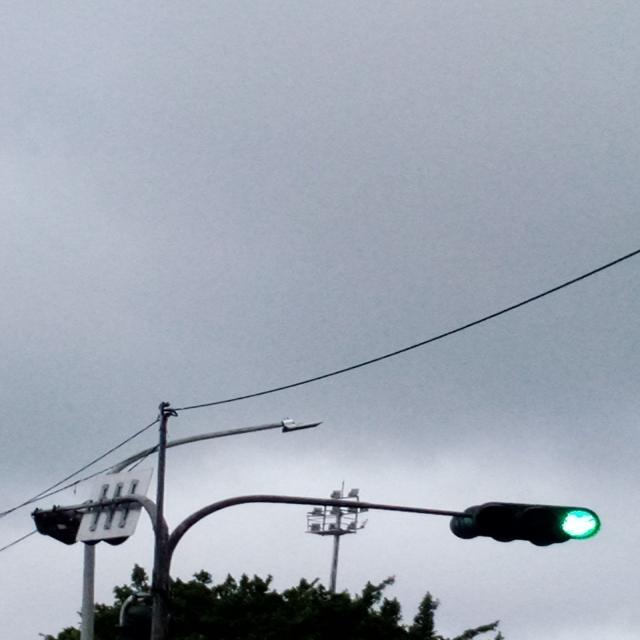green light: (457, 503, 601, 540)
